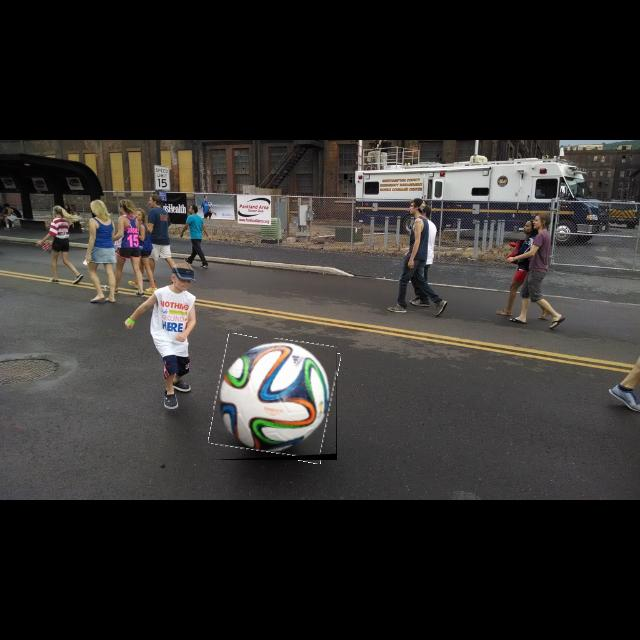Football: (213, 338, 337, 460)
